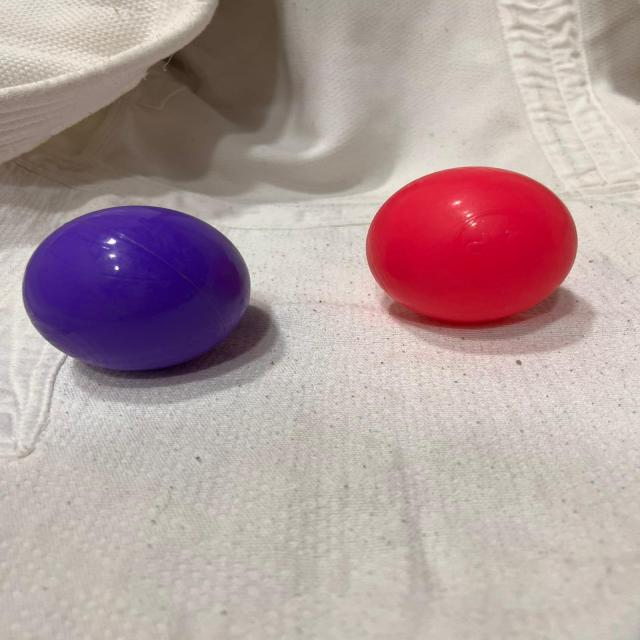ball: (17, 201, 254, 373), (360, 162, 580, 326)
